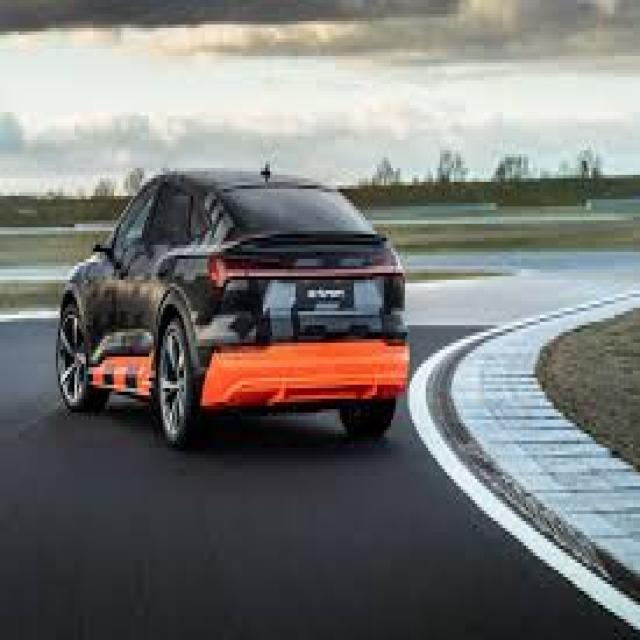Car: (57, 171, 409, 446)
